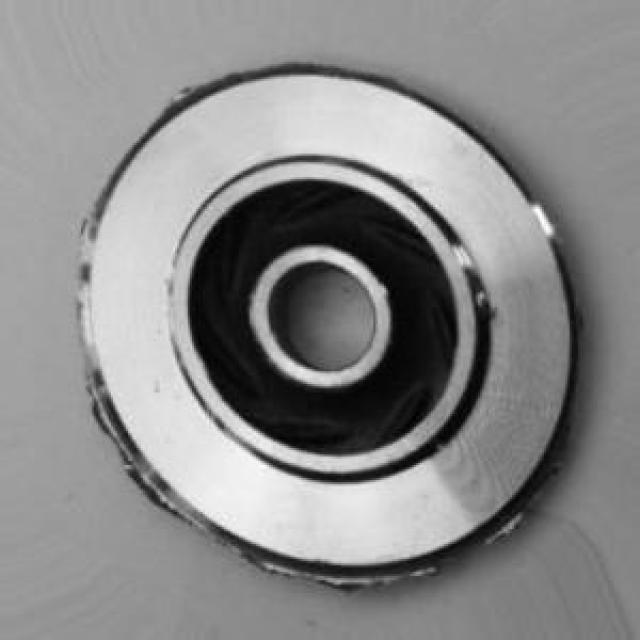Defect: (304, 564, 413, 603)
